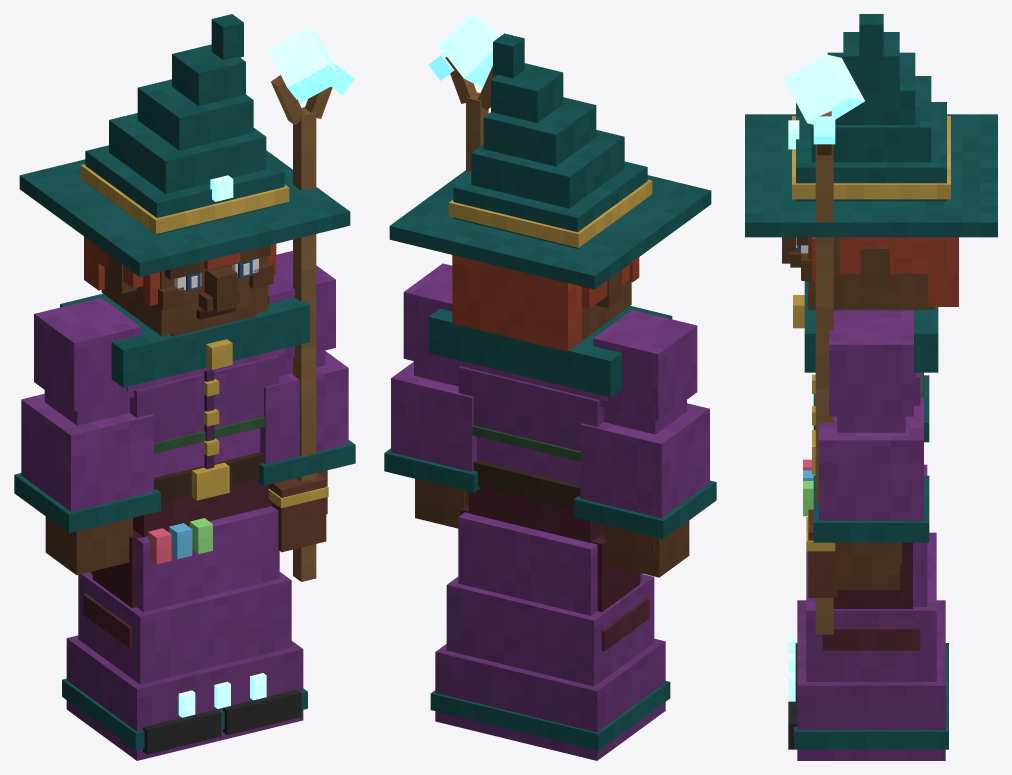
The model's file is human_mage_v2.glb.
The picture shows the model from 3 angles, left to right: view 1: azimuth 30°, elevation 25°; view 2: azimuth 150°, elevation 25°; view 3: azimuth 270°, elevation 25°; orthographic projection. The views are drawn at different scales.
Parts seen in each view (by area): view 1: Head, Root, Torso, ArmR, HandL, ArmL, LegR, LegL; view 2: Head, Root, ArmR, Torso, ArmL, HandL, LegR; view 3: Head, ArmL, Root, HandL, Torso, LegL, ArmR.
Part boxes in pixels (x1,y1,x2,y2): Head: [19, 14, 350, 336]; Root: [62, 506, 307, 760]; Torso: [60, 293, 328, 564]; ArmR: [14, 297, 160, 575]; HandL: [268, 26, 354, 581]; ArmL: [257, 251, 355, 514]; LegR: [83, 529, 221, 754]; LegL: [223, 503, 301, 734]; Head: [389, 33, 711, 351]; Root: [430, 512, 670, 760]; ArmR: [573, 309, 716, 577]; Torso: [428, 306, 672, 542]; ArmL: [384, 263, 479, 528]; HandL: [428, 14, 500, 171]; LegR: [591, 533, 649, 651]; Head: [745, 14, 997, 309]; ArmL: [813, 310, 929, 589]; Root: [788, 464, 948, 760]; HandL: [784, 54, 864, 634]; Torso: [793, 281, 938, 597]; LegL: [788, 542, 920, 749]; ArmR: [813, 372, 929, 442].
Bounding box in the file's own units: 0.966 × 2.2 × 0.7.
37 materials, 37 textured.
